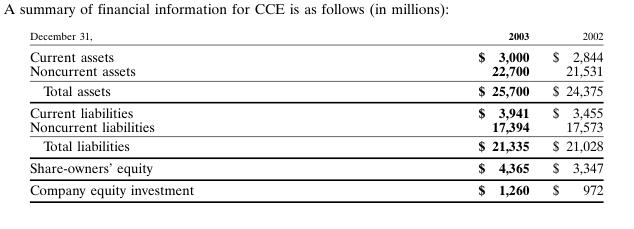table: (28, 29, 602, 197)
table column: (28, 29, 335, 197), (335, 29, 540, 197), (540, 29, 602, 197)
table column header: (28, 29, 602, 44)
table row: (28, 156, 602, 178), (28, 135, 602, 156), (28, 80, 602, 100), (28, 44, 602, 63), (28, 178, 602, 197), (28, 100, 602, 118), (28, 63, 602, 80), (28, 118, 602, 135), (28, 29, 602, 44)
